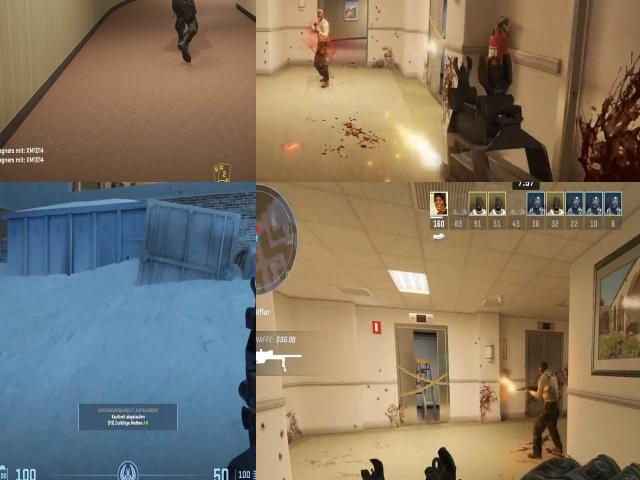CT: (175, 0, 196, 43)
T: (529, 354, 564, 432), (312, 6, 332, 54), (110, 182, 122, 188)
T-Head: (532, 358, 554, 381), (315, 9, 326, 29)
